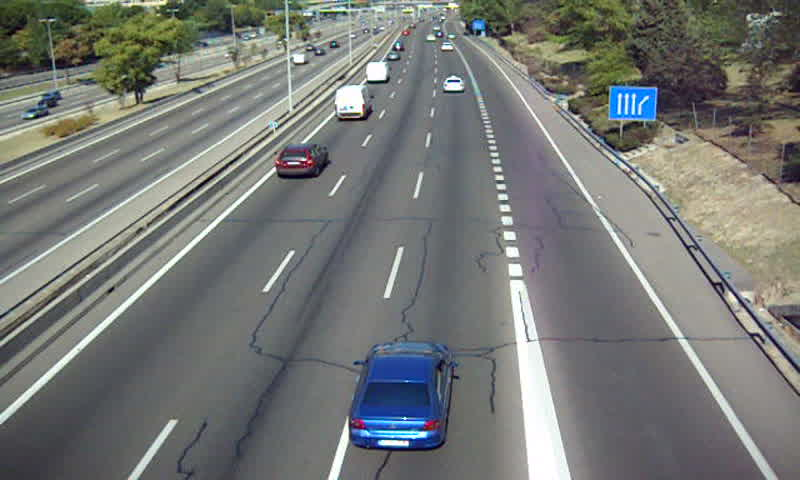car: (351, 344, 451, 450), (275, 144, 328, 176), (443, 76, 465, 92), (386, 51, 401, 62)
van: (336, 85, 372, 121), (364, 62, 389, 83)
